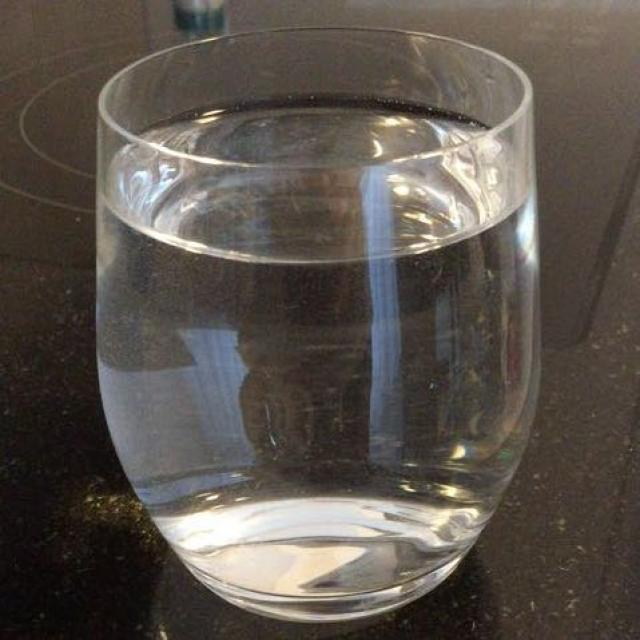glucose-drink-50g: (110, 113, 526, 478)
